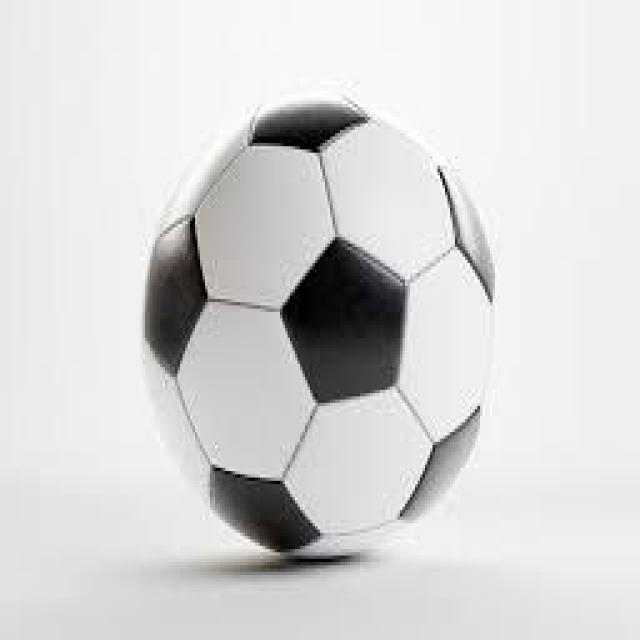Soccer Ball: (140, 91, 495, 565)
